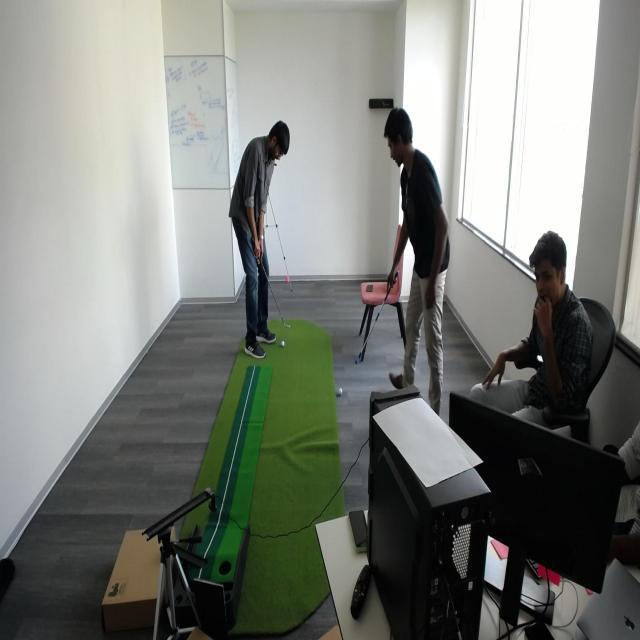ClubHead: (278, 314, 296, 334)
GolfBall: (337, 386, 344, 398), (279, 338, 286, 348)
